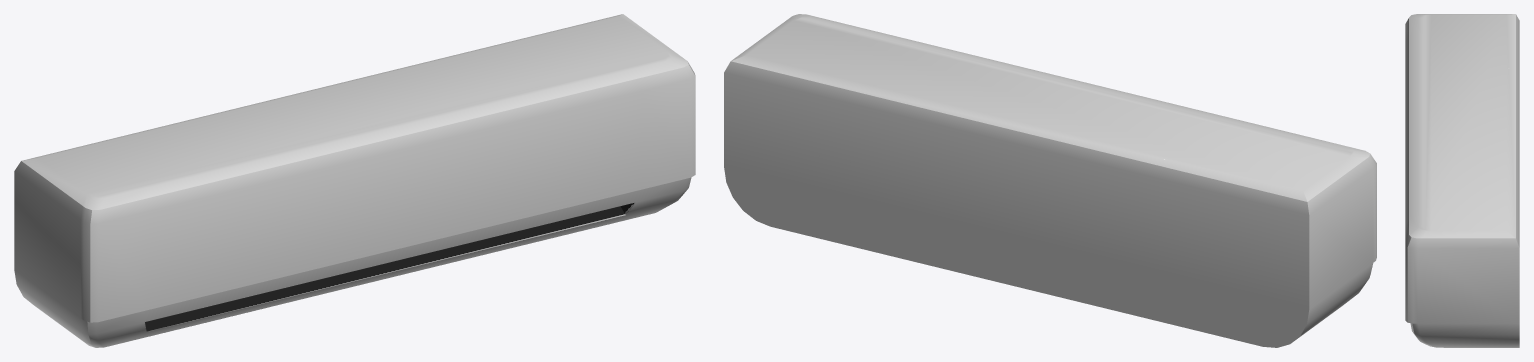
Rendered from AirConditioner.glb.
3 views of the same model, side by side, from view 1: azimuth 30°, elevation 25°; view 2: azimuth 150°, elevation 25°; view 3: azimuth 270°, elevation 25° (orthographic). The views are drawn at different scales.
Parts seen in each view (by area): view 1: Air Conditioner; view 2: Air Conditioner; view 3: Air Conditioner.
Part boxes in pixels (<box>): Air Conditioner: <box>14,14,695,347</box>; Air Conditioner: <box>724,14,1376,347</box>; Air Conditioner: <box>1405,14,1519,347</box>.
Bounding box in the file's own units: 1.27 × 0.3278 × 0.2705.
Materials: 1 (1 with a texture image).
